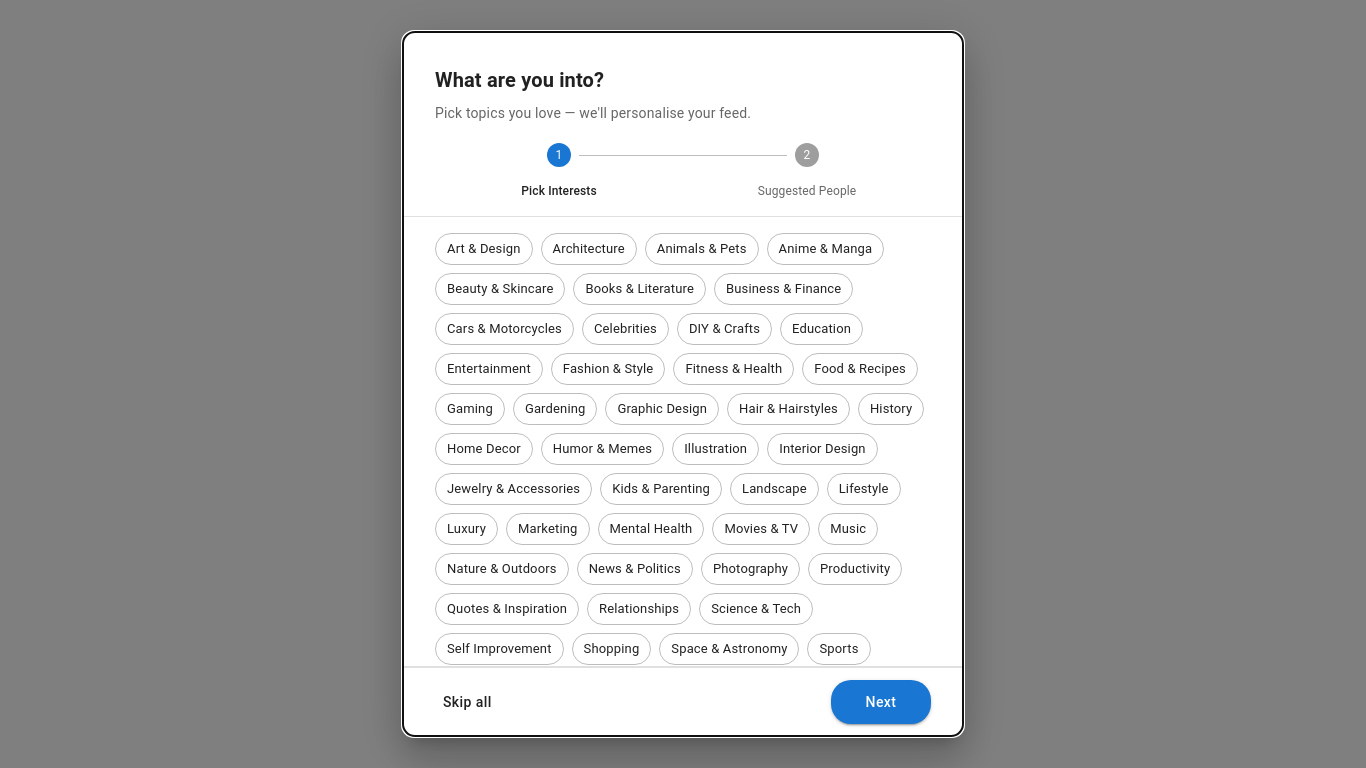
Test case: OnboardingWizard › navigates Back from step 2 to step 1
Note: advance to step 2
Click the button "Next" at [881, 702], box [831, 680, 931, 724]
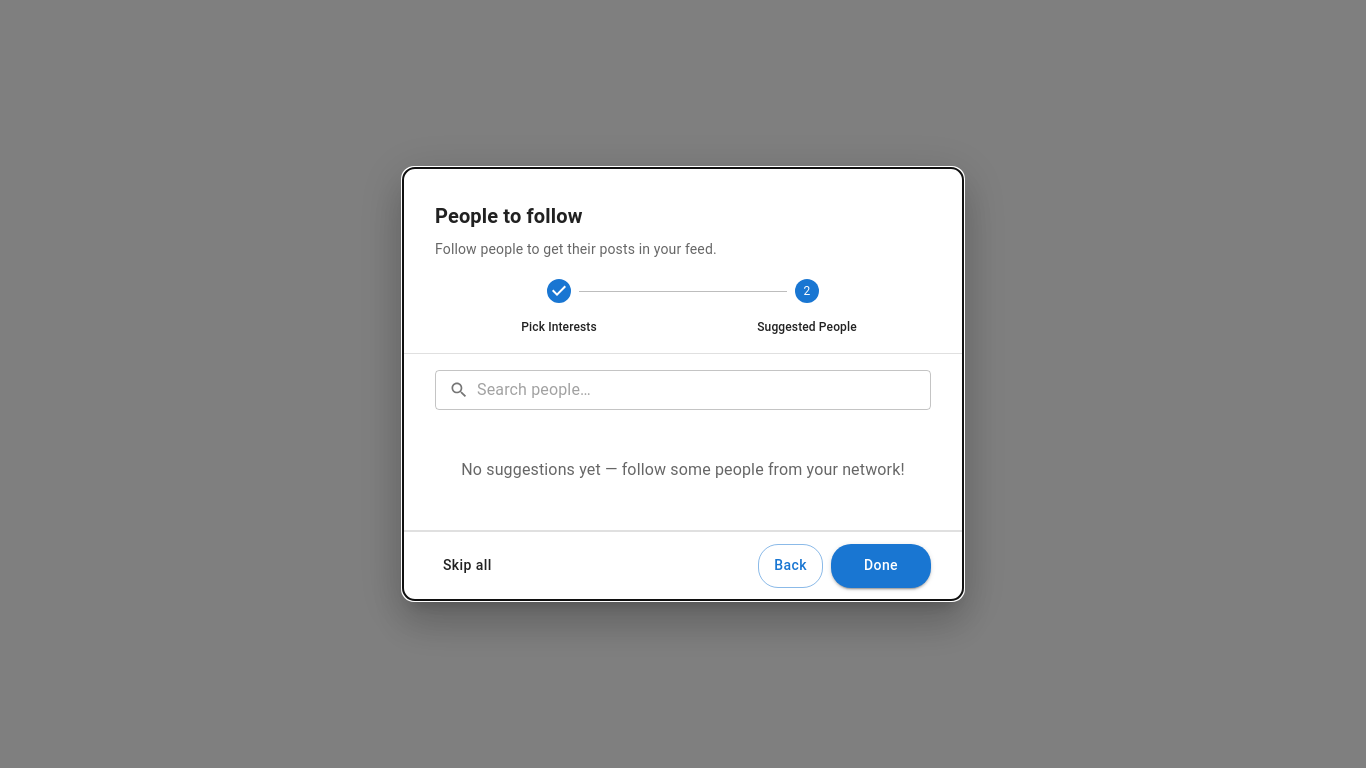
Check: the heading "People to follow" is shown, box [435, 204, 582, 228]
Note: back to step 1
Click the button "Back" at [791, 566], box [758, 544, 823, 588]
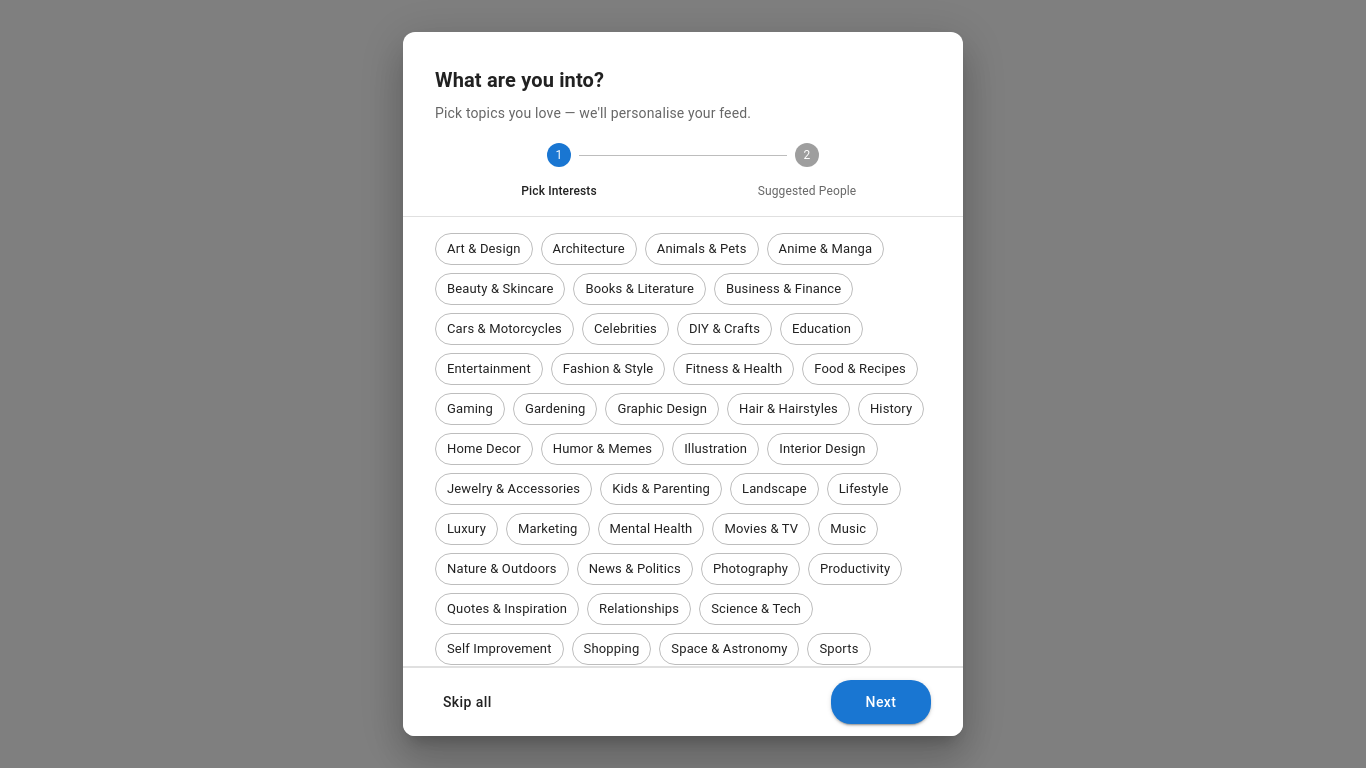
Check: the heading "What are you into?" is shown, box [435, 68, 604, 92]
